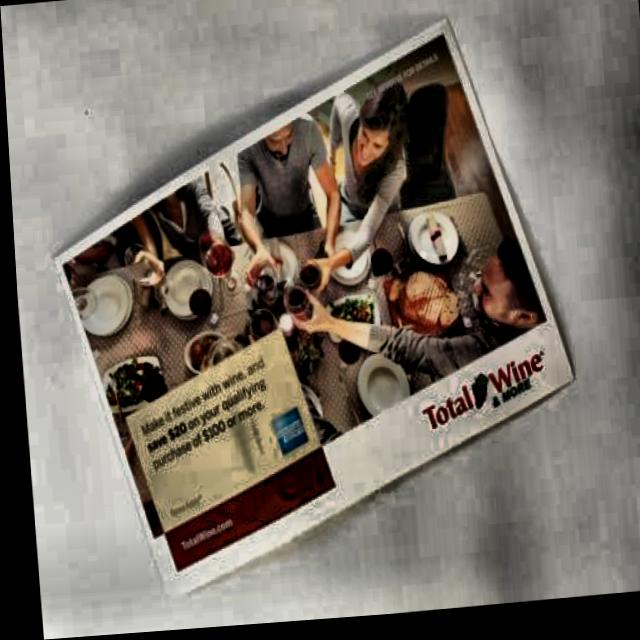Paper: (36, 15, 596, 623)
